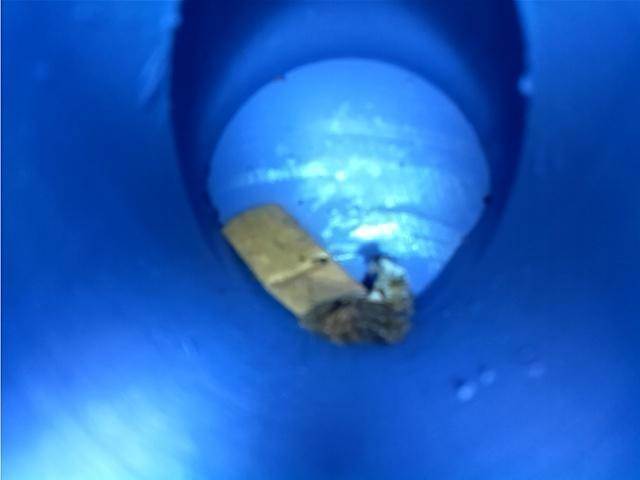megot: (212, 194, 420, 356)
